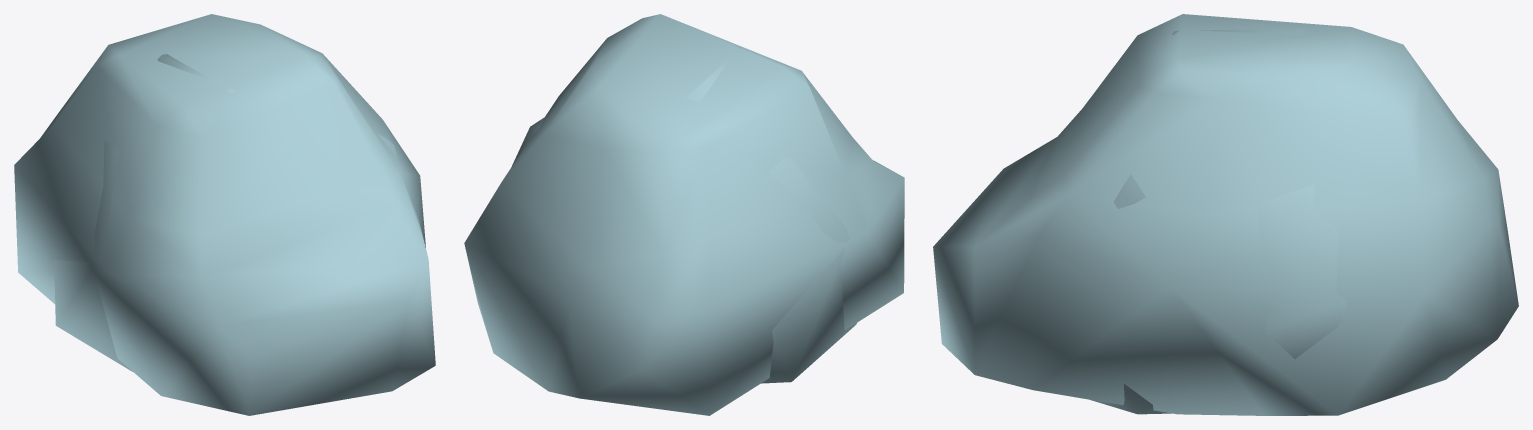
File: rock_001.FBX
3 renders of one model, left to right at view 1: azimuth 30°, elevation 25°; view 2: azimuth 150°, elevation 25°; view 3: azimuth 270°, elevation 25°, orthographic. The views are drawn at different scales.
Visible parts, largest first — view 1: rock_01_001, rock_03_001; view 2: rock_01_001, rock_03_001; view 3: rock_01_001, rock_03_001.
Boxes of the visible parts, x1=… form: rock_01_001: x1=14, y1=14, x2=435, y2=415; rock_03_001: x1=54, y1=54, x2=397, y2=371; rock_01_001: x1=464, y1=14, x2=904, y2=415; rock_03_001: x1=512, y1=46, x2=856, y2=383; rock_01_001: x1=933, y1=14, x2=1518, y2=415; rock_03_001: x1=1091, y1=28, x2=1347, y2=414.
Bounding box in the file's own units: 415 × 343 × 591.
